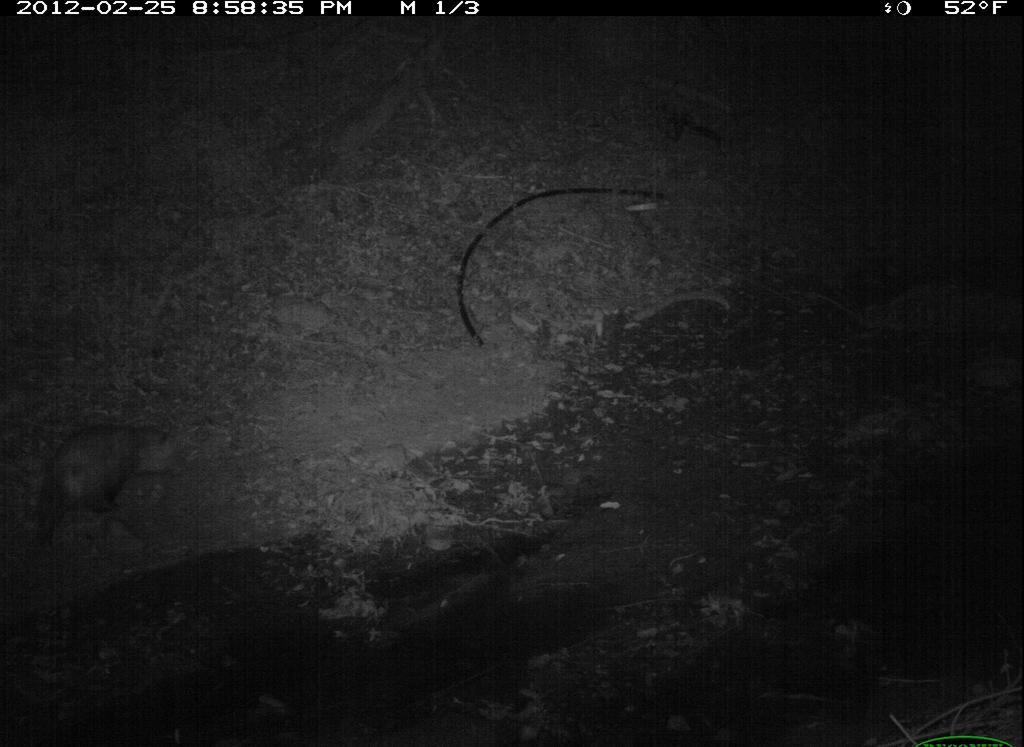opossum: (20, 420, 216, 560)
